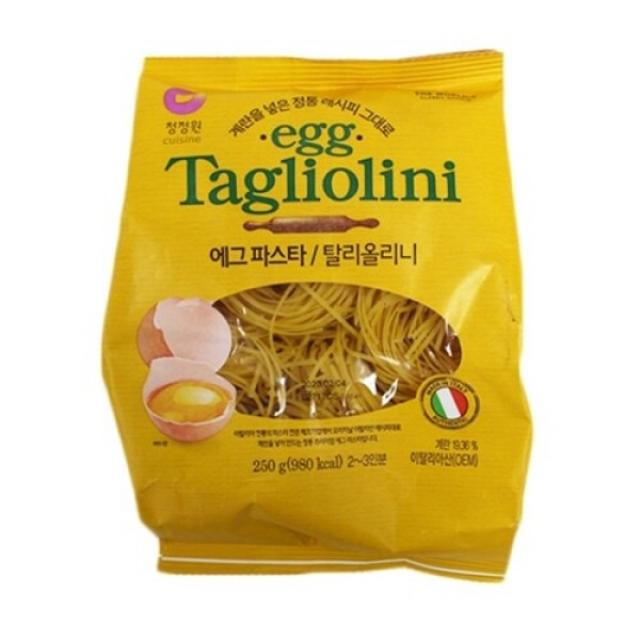Noodle: (215, 283, 462, 419)
